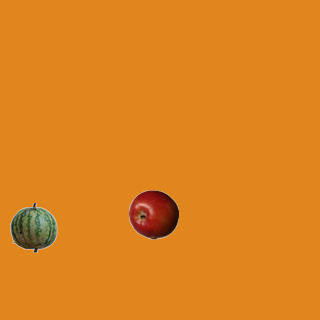Apple Braeburn: (128, 189, 178, 239)
Watermelon: (8, 202, 58, 252)
